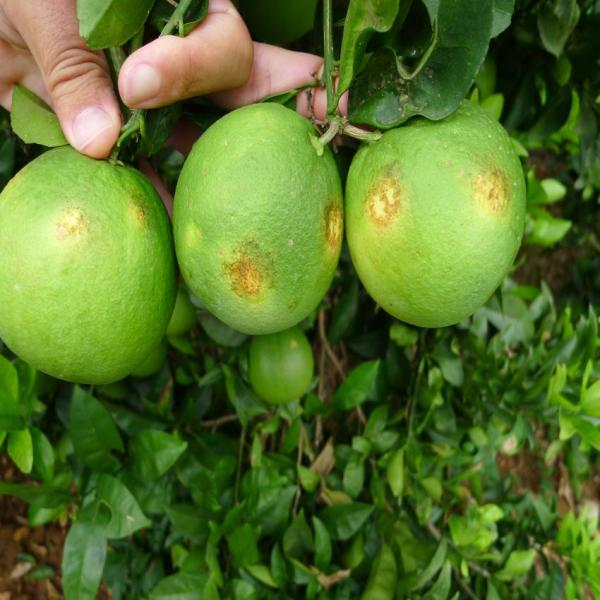Trips: (345, 86, 537, 346), (0, 137, 182, 379), (173, 92, 345, 343)
